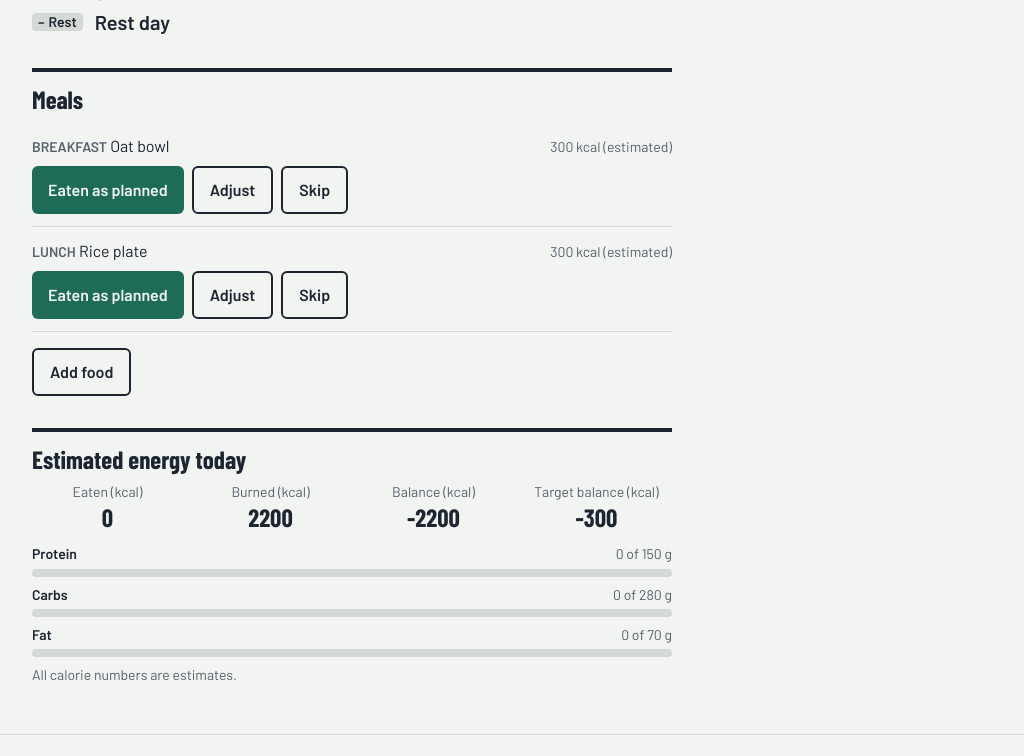
Test case: Today meals (F12) › adds a food from the library as extra food
This screenshot has width=1024, height=756.
(page scrolled)
Click the button "Add food". click: {"x": 82, "y": 372}
box: [32, 348, 131, 396]
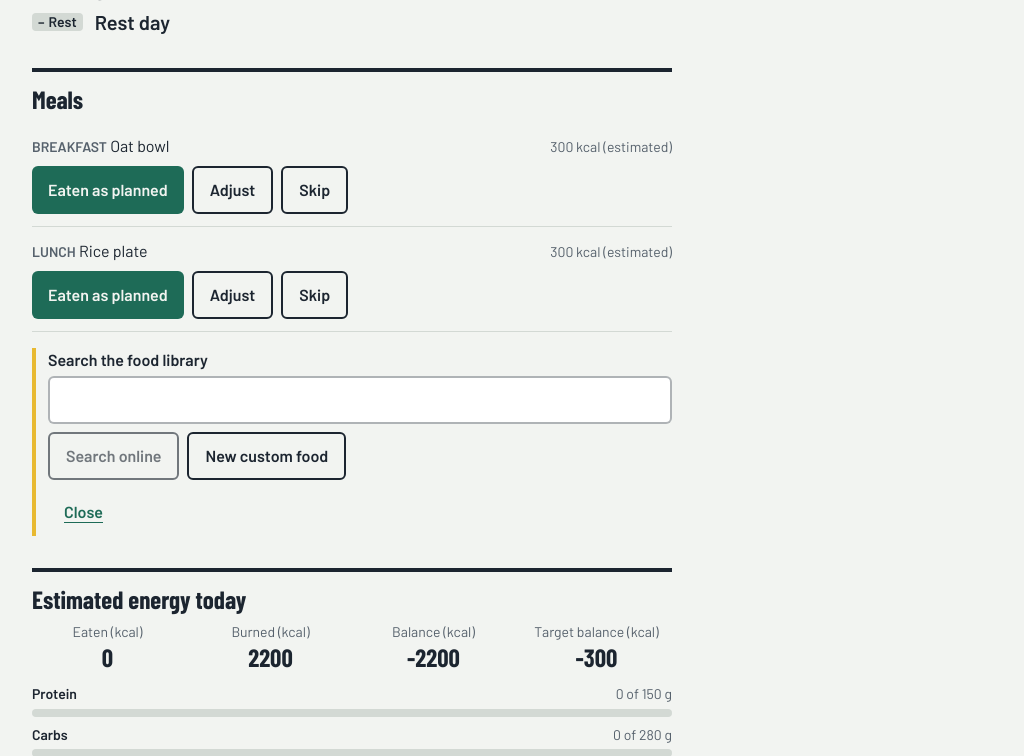
Type "oat" into the search field labelled "Search the food library". click: {"x": 360, "y": 400}
box: [48, 376, 672, 424]
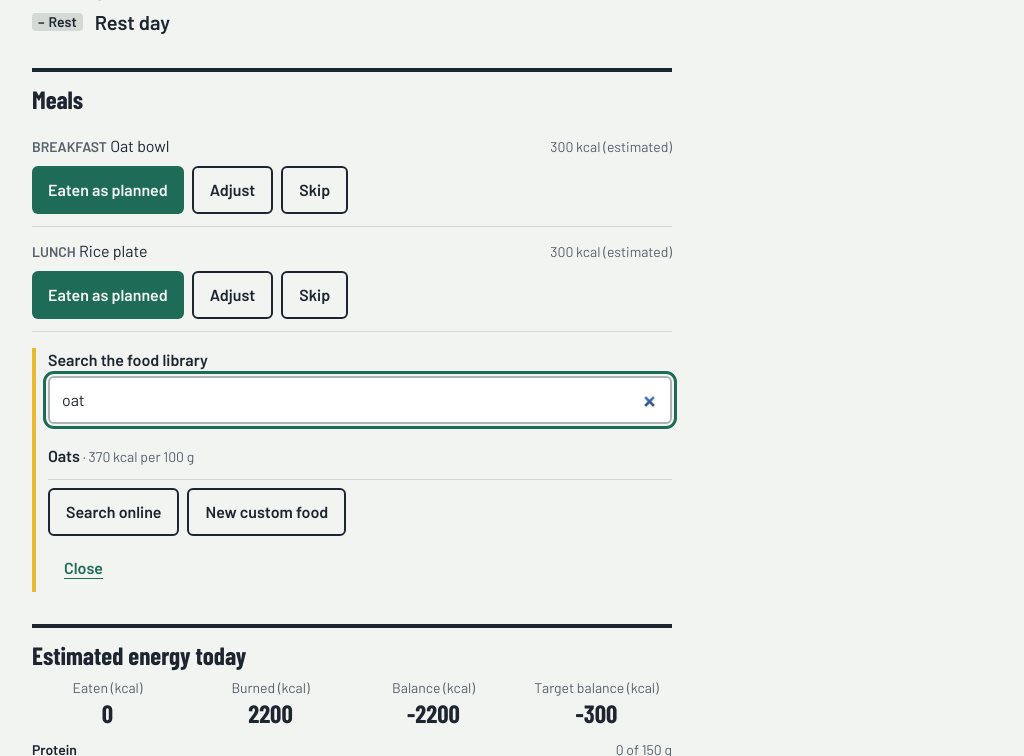
Click the button "Oats · 370 kcal per 100 g". click: {"x": 64, "y": 455}
box: [48, 432, 672, 480]
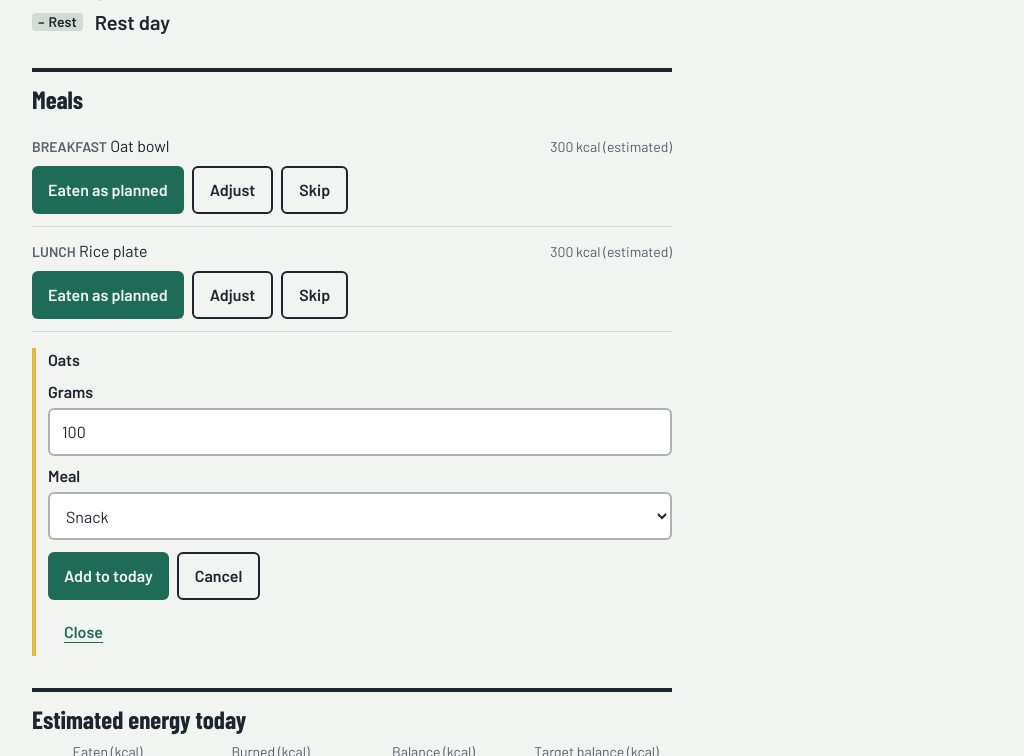
Replace the text in the number field labelled "Grams" with "40". click: {"x": 360, "y": 432}
box: [48, 408, 672, 456]
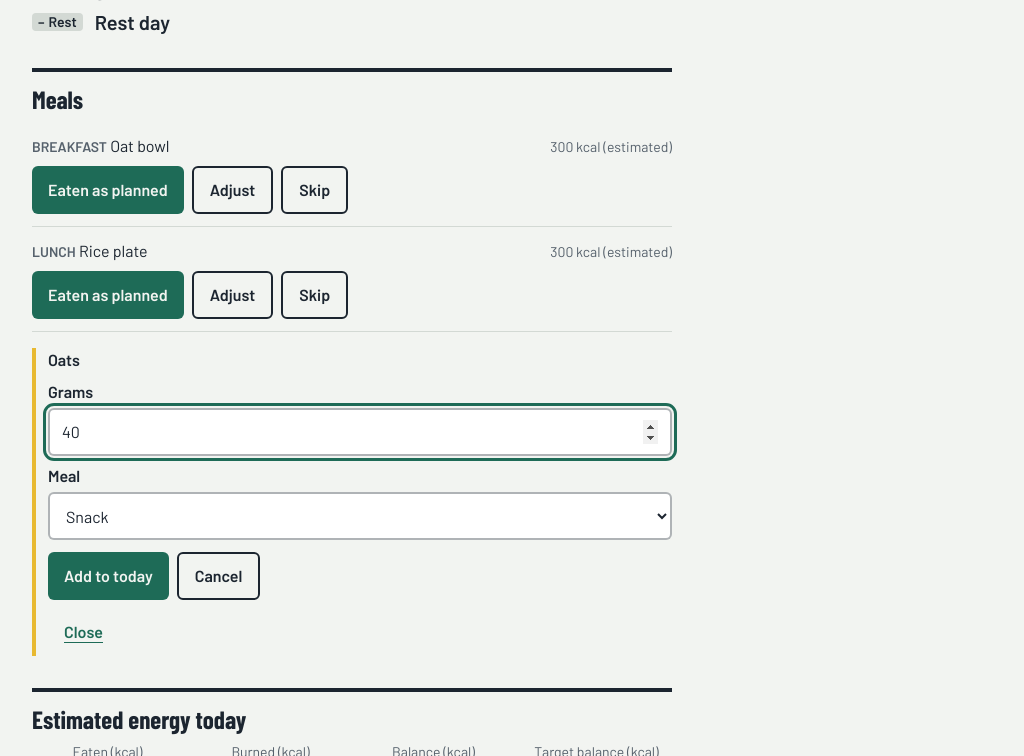
Click the button "Add to today". click: {"x": 108, "y": 576}
box: [48, 552, 169, 600]
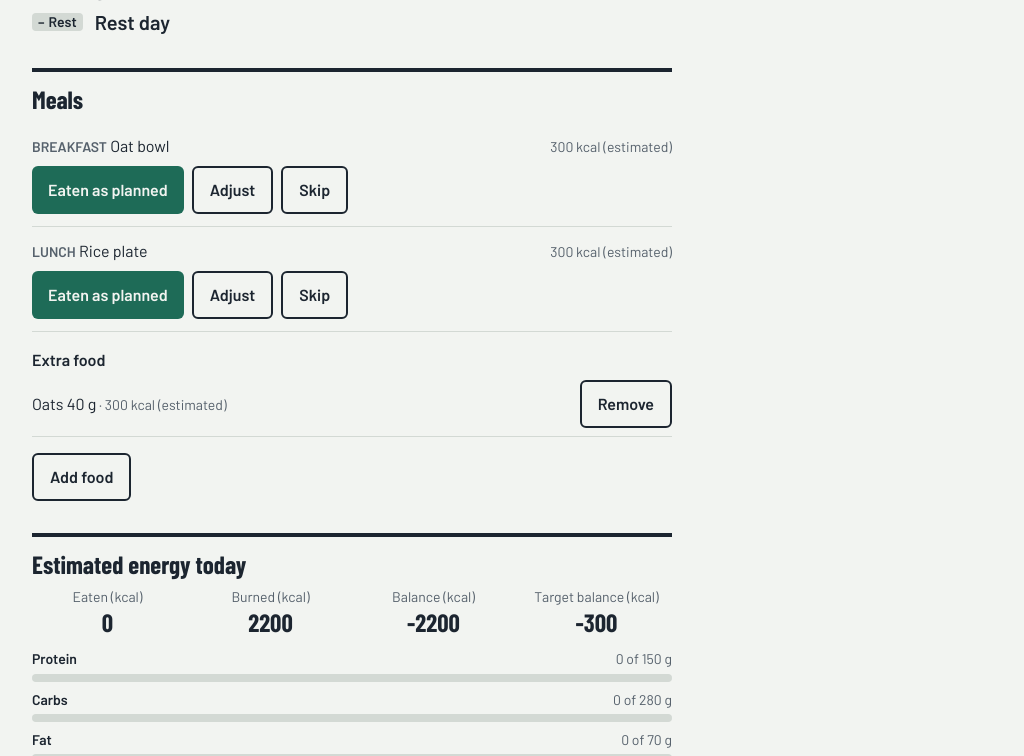
Now the text "Oats 40 g · 300 kcal (estimated)" is shown, box [32, 392, 227, 416]
